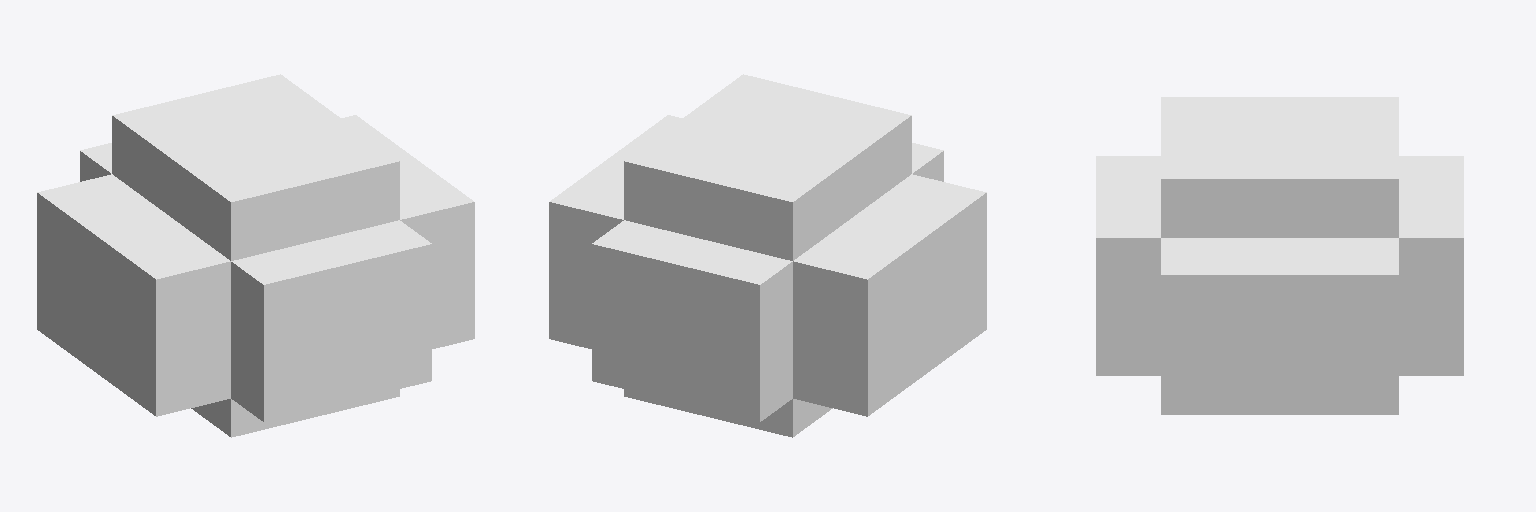
Rendered from Bosje_2.obj.
3 views of the same model, side by side, from view 1: azimuth 30°, elevation 25°; view 2: azimuth 150°, elevation 25°; view 3: azimuth 270°, elevation 25° (orthographic).
Parts seen in each view (by area): view 1: Bosje_2; view 2: Bosje_2; view 3: Bosje_2.
Part boxes in pixels (x1,y1,x2,y2): Bosje_2: (37, 74, 474, 437); Bosje_2: (549, 74, 986, 437); Bosje_2: (1096, 97, 1463, 414).
Bounding box in the file's own units: 17 × 12 × 17.